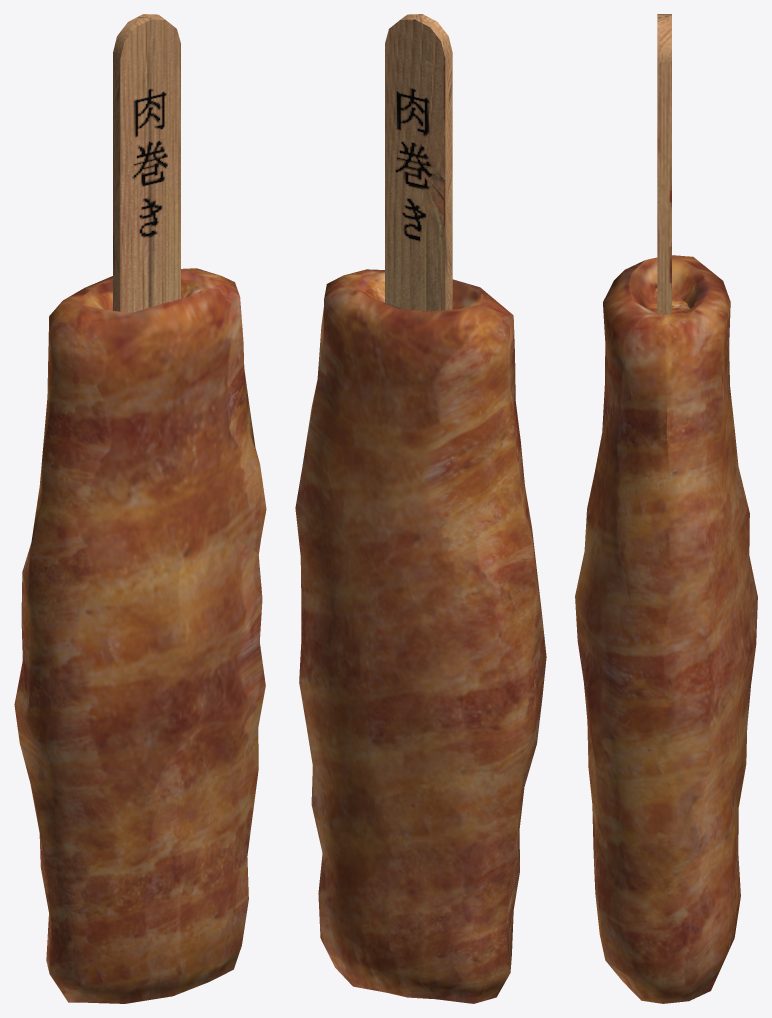
File: nikumaki.fbx
The picture shows the model from 3 angles, left to right: view 1: azimuth 30°, elevation 25°; view 2: azimuth 150°, elevation 25°; view 3: azimuth 270°, elevation 25°; orthographic projection.
Visible parts, largest first — view 1: nikumaki; view 2: nikumaki; view 3: nikumaki.
Part boxes in pixels (x1,y1,x2,y2): nikumaki: (14,14,266,1003); nikumaki: (295,14,546,1003); nikumaki: (575,14,757,1003).
Bounding box in the file's own units: 2.06 × 8.22 × 1.41.
